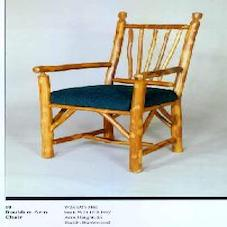chair: (20, 7, 212, 179)
